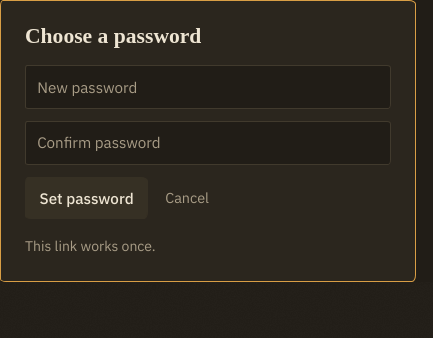
it: SetPasswordPanel › catches a typo before spending the link on it
Type "a-new-password" into the password field with placeholder "New password" at (208,87), box [25,65,391,109]
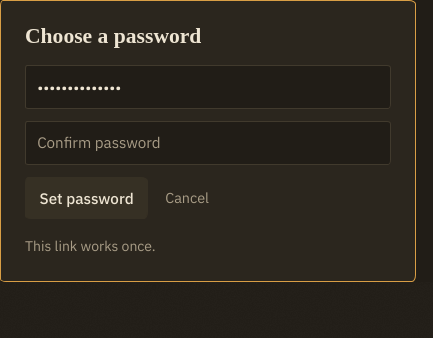
Type "a-new-passwrod" into the password field with placeholder "Confirm password" at (208,143), box [25,121,391,164]
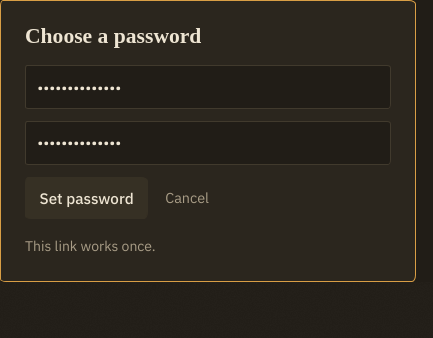
Submit the form, box [25,65,391,219]
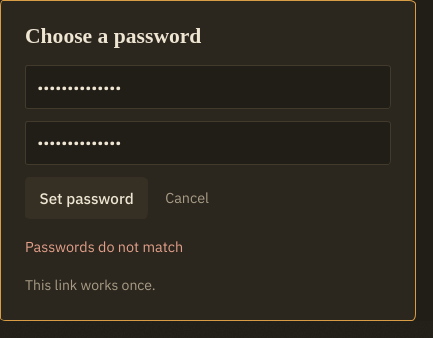
Check: the message "Passwords do not match" is shown, box [25,237,183,256]
